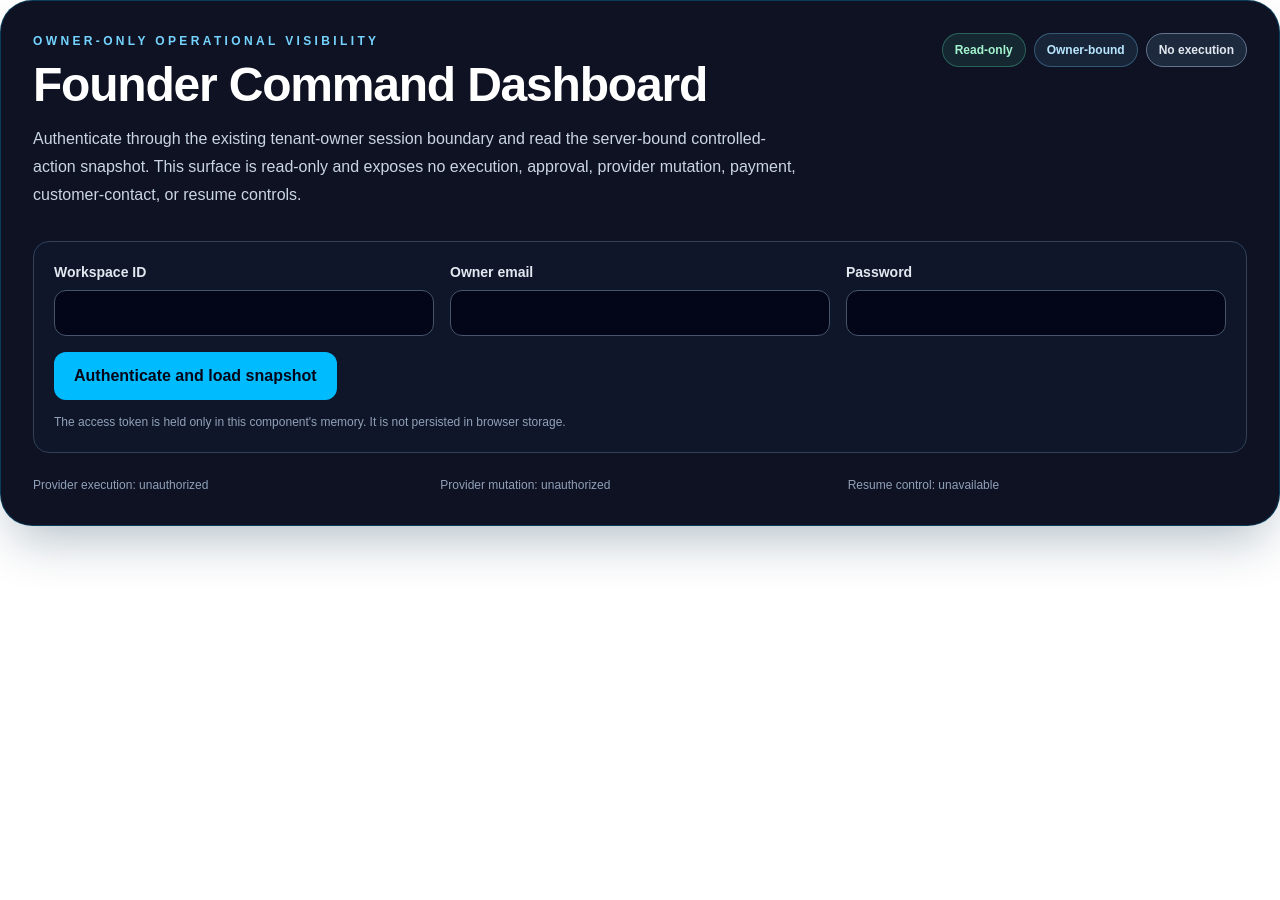
Test: NexusFounderCommandDashboard browser interaction › renders verified exact-tenant growth totals without inventing commercial metrics
Type "tenant-a" into the field labelled "Workspace ID" at (244, 313), box [54, 290, 434, 336]
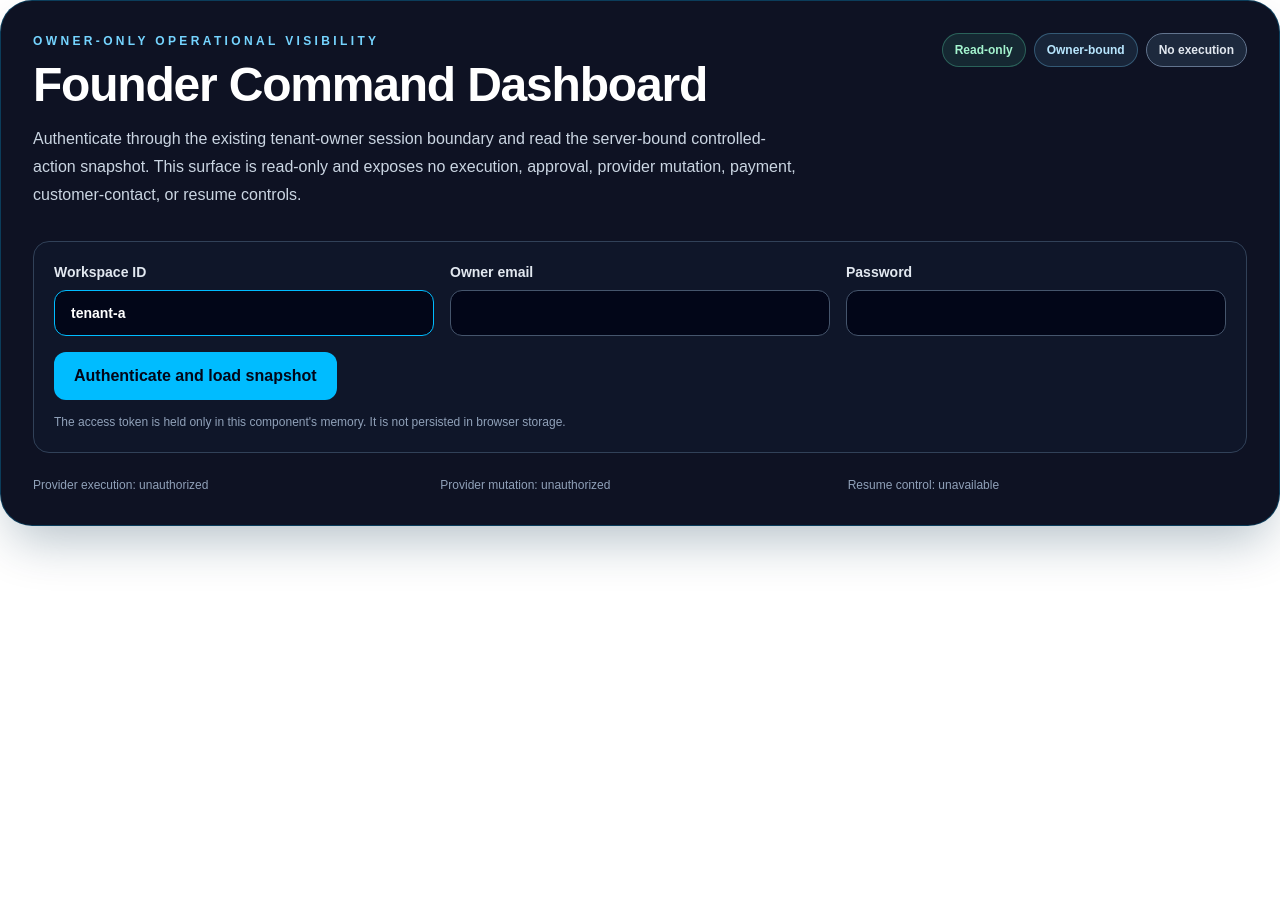
Type "owner@example.com" into the field labelled "Owner email" at (640, 313), box [450, 290, 830, 336]
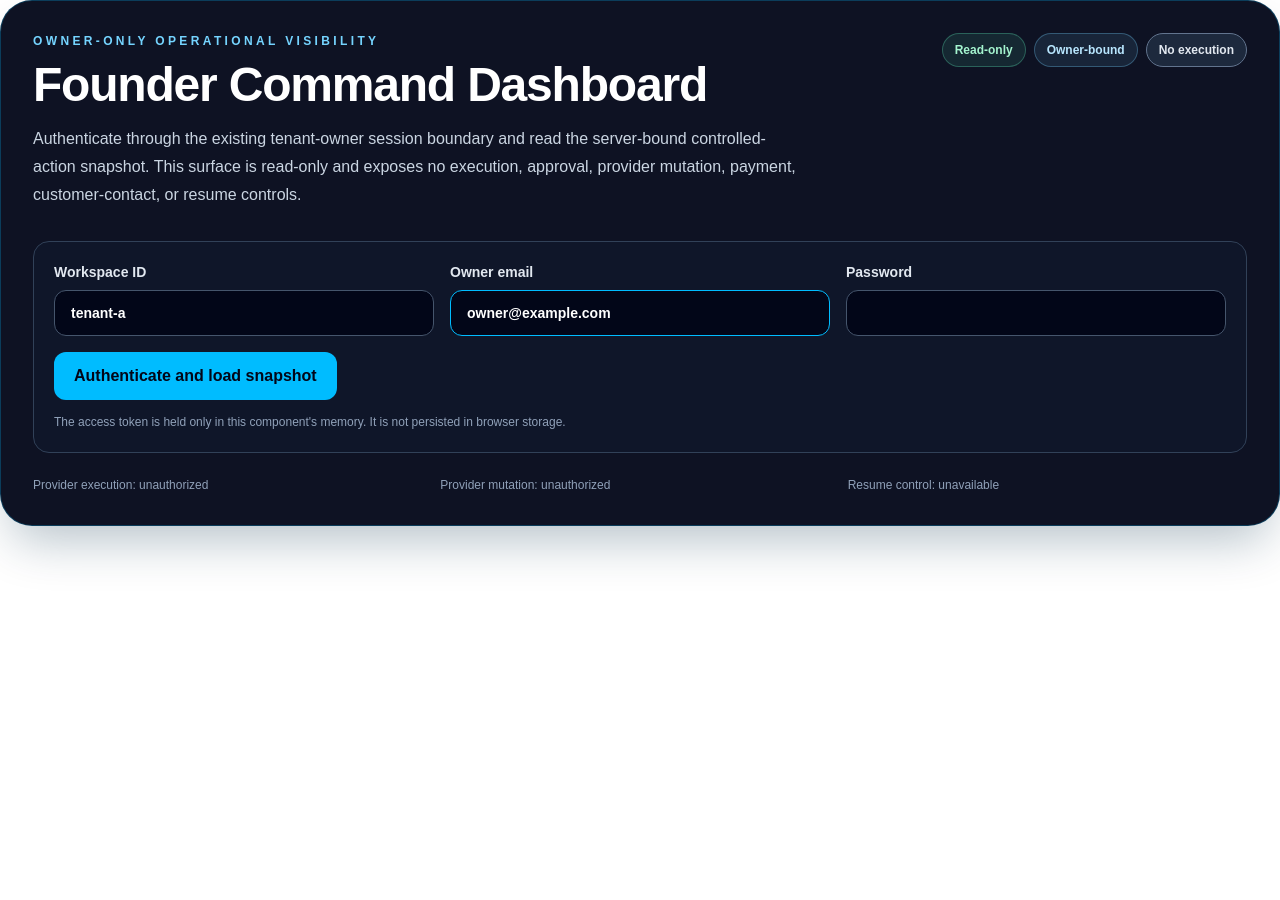
Type "secret-password" into the password field labelled "Password" at (1036, 313), box [846, 290, 1226, 336]
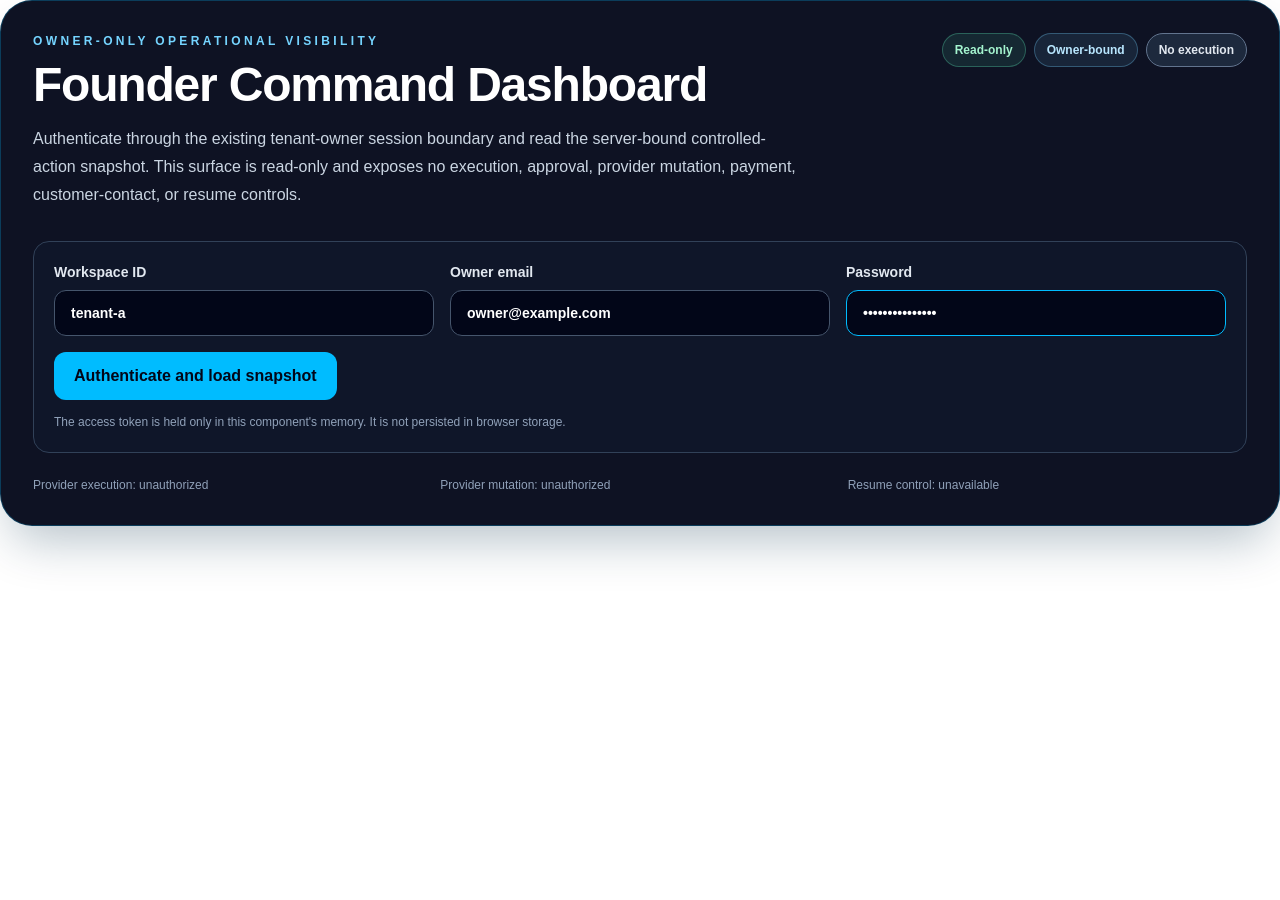
Click the button "Authenticate and load snapshot" at (195, 376), box [54, 352, 337, 400]
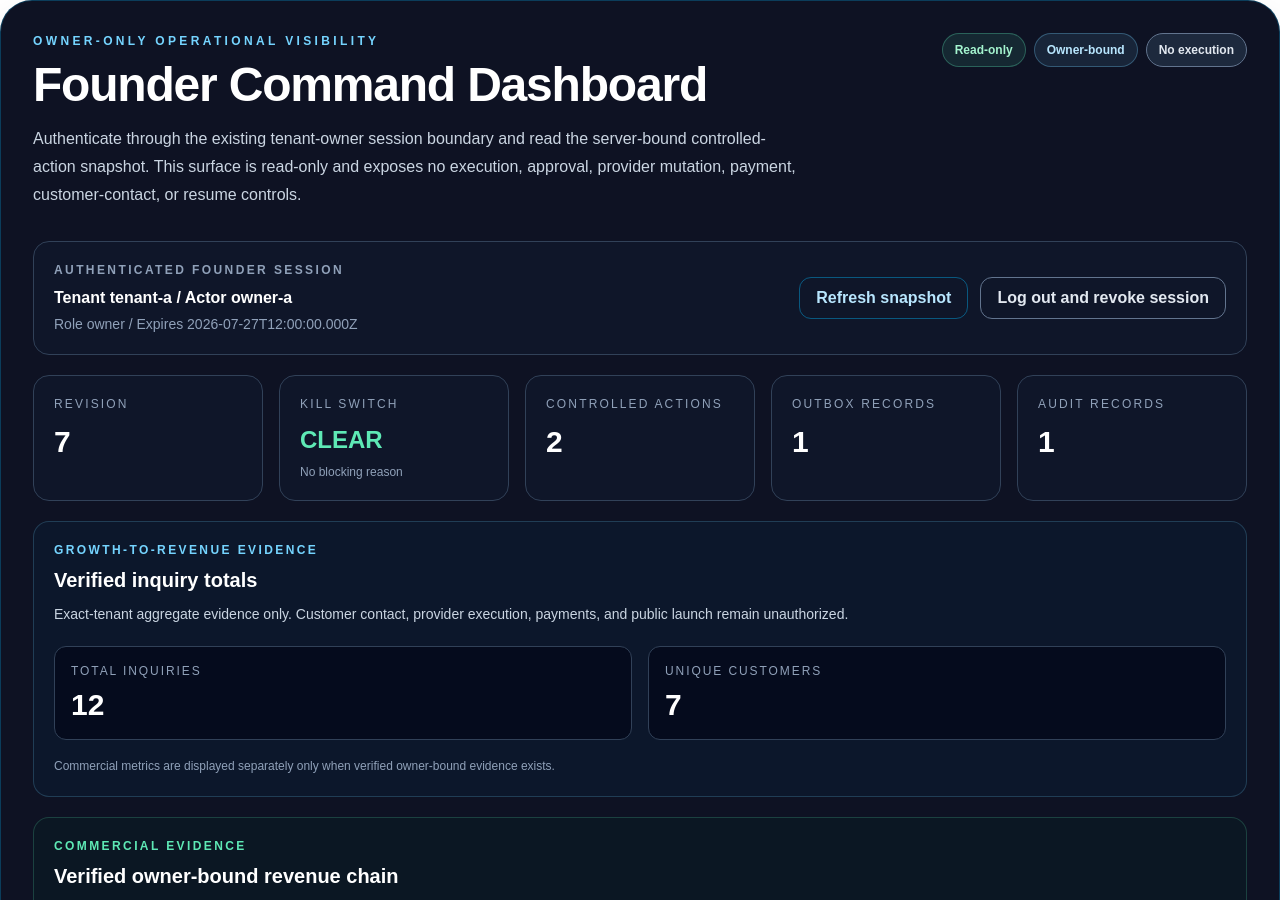
Result: the text named "Growth total inquiries" reads "12" at [71, 688, 104, 721]
Result: the text named "Growth unique customers" reads "7" at [665, 688, 682, 721]
Result: the text "Commercial metrics are displayed separately only when verified owner-bound evidence exists." is shown at [54, 759, 555, 773]
